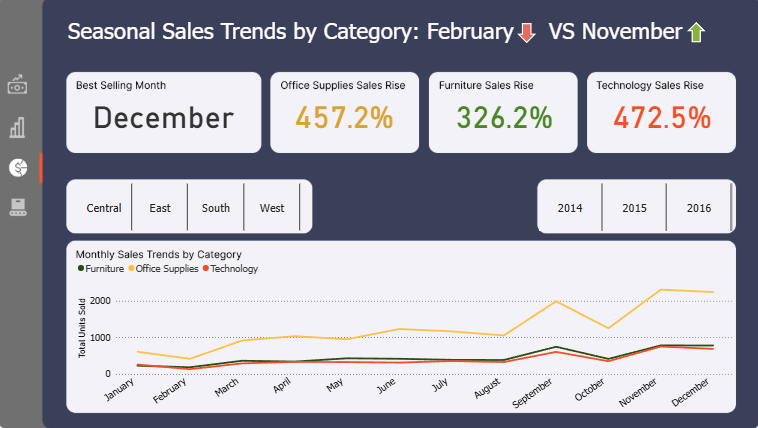

This screenshot's page, from the dashboard's own definition file:
{"tool":"powerbi","page":{"name":"Page 3","canvas":[1280,720],"ordinal":2},"visuals":[{"type":"lineChart","title":"Shipped Products Quantity Category","fields":{"Y":["Sum(SalesTransaction.Quantity)"],"Series":["Products.Category"],"Category":["SalesTransaction.Ship Date.Variation.Date Hierarchy.Month"]},"box":[136.7,426.1,1105,276.2],"z":0},{"type":"slicer","fields":{"Values":["SalesTransaction.Ship Date.Variation.Date Hierarchy.Year"]},"box":[886,301.2,368.8,91.1],"z":1000},{"type":"slicer","fields":{"Values":["Customers.Region"]},"box":[116.7,301.7,420,90],"z":2000},{"type":"card","fields":{"Values":["SalesTransaction.Best Selling Month"]},"box":[121.7,128.3,328.3,123.3],"z":3000},{"type":"card","fields":{"Values":["SalesTransaction.P3 Office Supplies Sale Lift %"]},"box":[465,128.3,245,123.3],"z":4000},{"type":"card","fields":{"Values":["SalesTransaction.P3 Furniture Sale Lift %"]},"box":[730,128.3,248.3,123.3],"z":5000},{"type":"card","fields":{"Values":["SalesTransaction.P3 Technology Sale Lift %"]},"box":[991.7,128.3,251.7,123.3],"z":6000},{"type":"textbox","box":[122,25,1121.1,85.2],"z":7000},{"type":"shape","box":[875.8,39.7,32.3,33.8],"z":8000},{"type":"shape","box":[1157.9,38.2,30.9,33.8],"z":9000},{"type":"actionButton","box":[11.8,320.3,70.5,55.8],"z":10000},{"type":"actionButton","box":[8.8,116.1,70.5,55.8],"z":11000},{"type":"actionButton","box":[11.8,186.6,70.5,55.8],"z":12000}]}

Visuals, with their boxes on the page's 1280x720 design canvas (x1, y1, x2, y2). These are canvas units, not pixel positions in the 758x428 screenshot, which may show the page scaled, cropped or inside an application window:
"Shipped Products Quantity Category" lineChart: pyautogui.locateOnScreen(137, 426, 1242, 702)
slicer - SalesTransaction.Ship Date.Variation.Date Hierarchy.Year: pyautogui.locateOnScreen(886, 301, 1255, 392)
slicer - Customers.Region: pyautogui.locateOnScreen(117, 302, 537, 392)
card - SalesTransaction.Best Selling Month: pyautogui.locateOnScreen(122, 128, 450, 252)
card - SalesTransaction.P3 Office Supplies Sale Lift %: pyautogui.locateOnScreen(465, 128, 710, 252)
card - SalesTransaction.P3 Furniture Sale Lift %: pyautogui.locateOnScreen(730, 128, 978, 252)
card - SalesTransaction.P3 Technology Sale Lift %: pyautogui.locateOnScreen(992, 128, 1243, 252)
textbox: pyautogui.locateOnScreen(122, 25, 1243, 110)
shape: pyautogui.locateOnScreen(876, 40, 908, 74)
shape: pyautogui.locateOnScreen(1158, 38, 1189, 72)
actionButton: pyautogui.locateOnScreen(12, 320, 82, 376)
actionButton: pyautogui.locateOnScreen(9, 116, 79, 172)
actionButton: pyautogui.locateOnScreen(12, 187, 82, 242)
